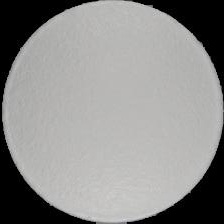54868-5828: (0, 0, 224, 224)
